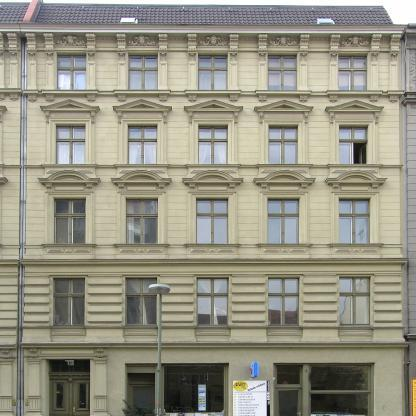Building Outline: (18, 0, 410, 416)
Cornice: (38, 98, 101, 125), (324, 99, 385, 126), (253, 99, 314, 126), (112, 99, 173, 125), (183, 99, 244, 125), (324, 169, 388, 192), (252, 169, 316, 192), (37, 169, 101, 191), (181, 169, 244, 191), (111, 169, 173, 191), (125, 34, 158, 48), (196, 34, 229, 48), (54, 34, 86, 48), (339, 34, 371, 48), (267, 34, 299, 48)
Door: (49, 378, 90, 416), (128, 388, 155, 416), (276, 388, 303, 416)
Facade: (18, 0, 410, 416)
Floor: (21, 266, 402, 342), (21, 186, 402, 258), (21, 108, 402, 178)
Floor Slab: (21, 342, 406, 350), (21, 258, 406, 266), (21, 178, 403, 186), (21, 100, 402, 108)
Ground Floor: (21, 350, 402, 416)
Molding: (20, 258, 409, 266), (20, 342, 410, 349)
Pillar: (231, 274, 266, 326), (88, 275, 122, 326), (160, 275, 194, 326), (303, 274, 337, 325), (373, 274, 402, 325), (24, 347, 43, 416), (24, 275, 49, 326), (91, 347, 109, 416), (25, 32, 36, 89), (116, 32, 127, 89), (257, 33, 268, 90), (299, 33, 310, 90), (330, 33, 341, 90), (371, 33, 382, 90), (43, 32, 54, 89), (390, 34, 401, 90), (187, 33, 198, 89), (158, 33, 169, 89), (85, 33, 96, 89), (229, 33, 240, 89)
Roof: (18, 0, 410, 34)
Shop: (234, 380, 271, 416)
Sill: (184, 89, 241, 103), (41, 89, 99, 102), (113, 89, 171, 102), (326, 90, 383, 103), (254, 90, 311, 103), (41, 244, 98, 248), (327, 244, 384, 248), (113, 244, 170, 248), (184, 244, 241, 248), (256, 244, 313, 248), (41, 164, 98, 168), (327, 164, 384, 168), (114, 164, 171, 168), (185, 164, 242, 168), (256, 164, 313, 168)
Top Floor: (21, 32, 402, 99)
Window: (308, 364, 371, 416), (161, 364, 226, 413), (339, 276, 371, 325), (53, 278, 85, 326), (125, 277, 157, 325), (197, 277, 229, 325), (268, 277, 300, 325), (53, 197, 85, 244), (339, 197, 371, 244), (268, 197, 300, 244), (125, 198, 157, 244), (197, 198, 229, 244), (55, 123, 87, 164), (339, 124, 371, 164), (268, 124, 300, 164), (127, 123, 158, 164), (198, 124, 229, 164), (50, 360, 90, 373), (276, 365, 303, 384), (127, 366, 155, 382)
